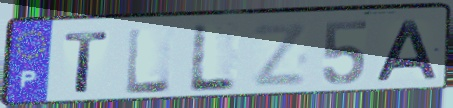5: (320, 18, 370, 87)
A: (373, 18, 441, 84)
L: (186, 22, 240, 94), (124, 25, 173, 97)
T: (62, 29, 111, 95)
Z: (250, 20, 309, 89)
